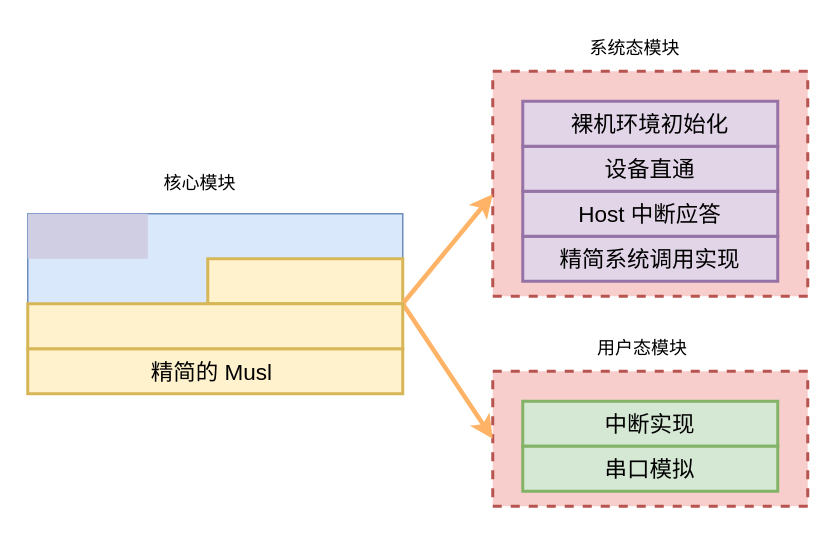
Some shapes in this 834 by 533 pixel diagram are drawn without their labels. Each missing label, with the centre of its shape:
LATX 翻译引擎: the point at 305,280
精简的 Glib: the point at 215,326
精简的 QEMU: the point at 87,235
